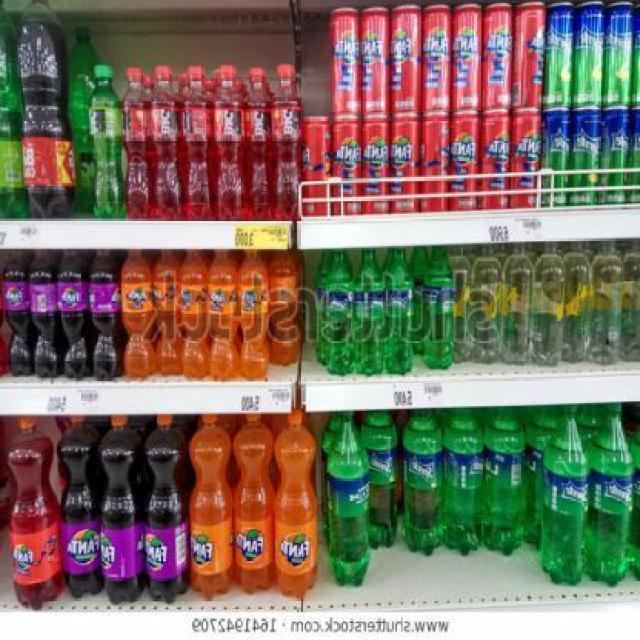Drinks: (7, 418, 56, 610), (589, 402, 634, 585), (231, 413, 274, 602), (188, 413, 231, 602), (146, 414, 189, 603), (100, 415, 143, 604), (274, 412, 317, 600), (544, 404, 588, 587), (56, 416, 99, 599), (401, 409, 442, 558), (443, 407, 484, 556), (360, 411, 398, 551), (237, 250, 270, 381), (175, 251, 208, 382), (206, 252, 238, 383), (120, 250, 152, 381), (89, 249, 120, 380), (58, 249, 89, 380), (354, 248, 385, 376), (383, 247, 414, 374), (325, 250, 356, 376), (29, 249, 58, 380), (481, 2, 514, 110), (1, 249, 28, 376), (509, 111, 542, 206), (515, 2, 544, 110), (452, 2, 481, 110), (603, 2, 632, 110), (449, 109, 480, 210), (422, 5, 451, 112), (392, 5, 421, 112), (362, 7, 391, 114), (331, 7, 360, 114), (574, 1, 603, 108), (544, 3, 573, 110), (419, 113, 450, 212), (389, 113, 420, 212), (329, 115, 360, 214), (300, 115, 331, 214), (479, 112, 510, 210), (360, 116, 391, 213), (153, 251, 176, 376), (602, 109, 630, 204), (574, 111, 602, 205), (544, 111, 572, 205)
